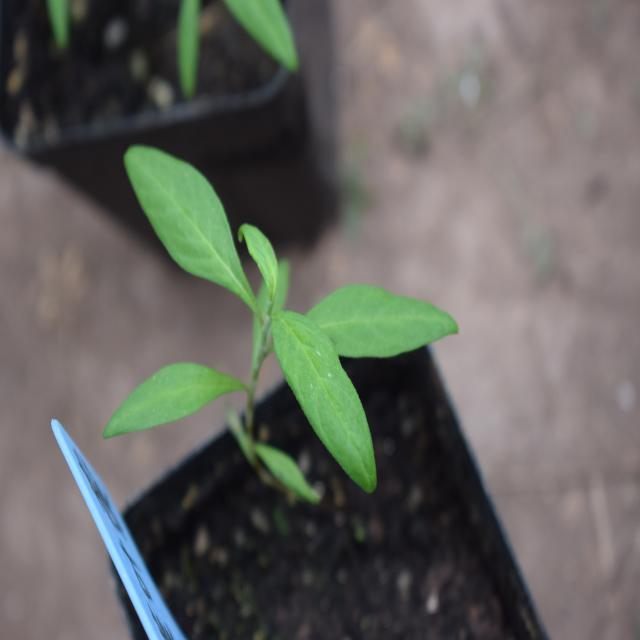white_smart_weed: (103, 135, 409, 502)
